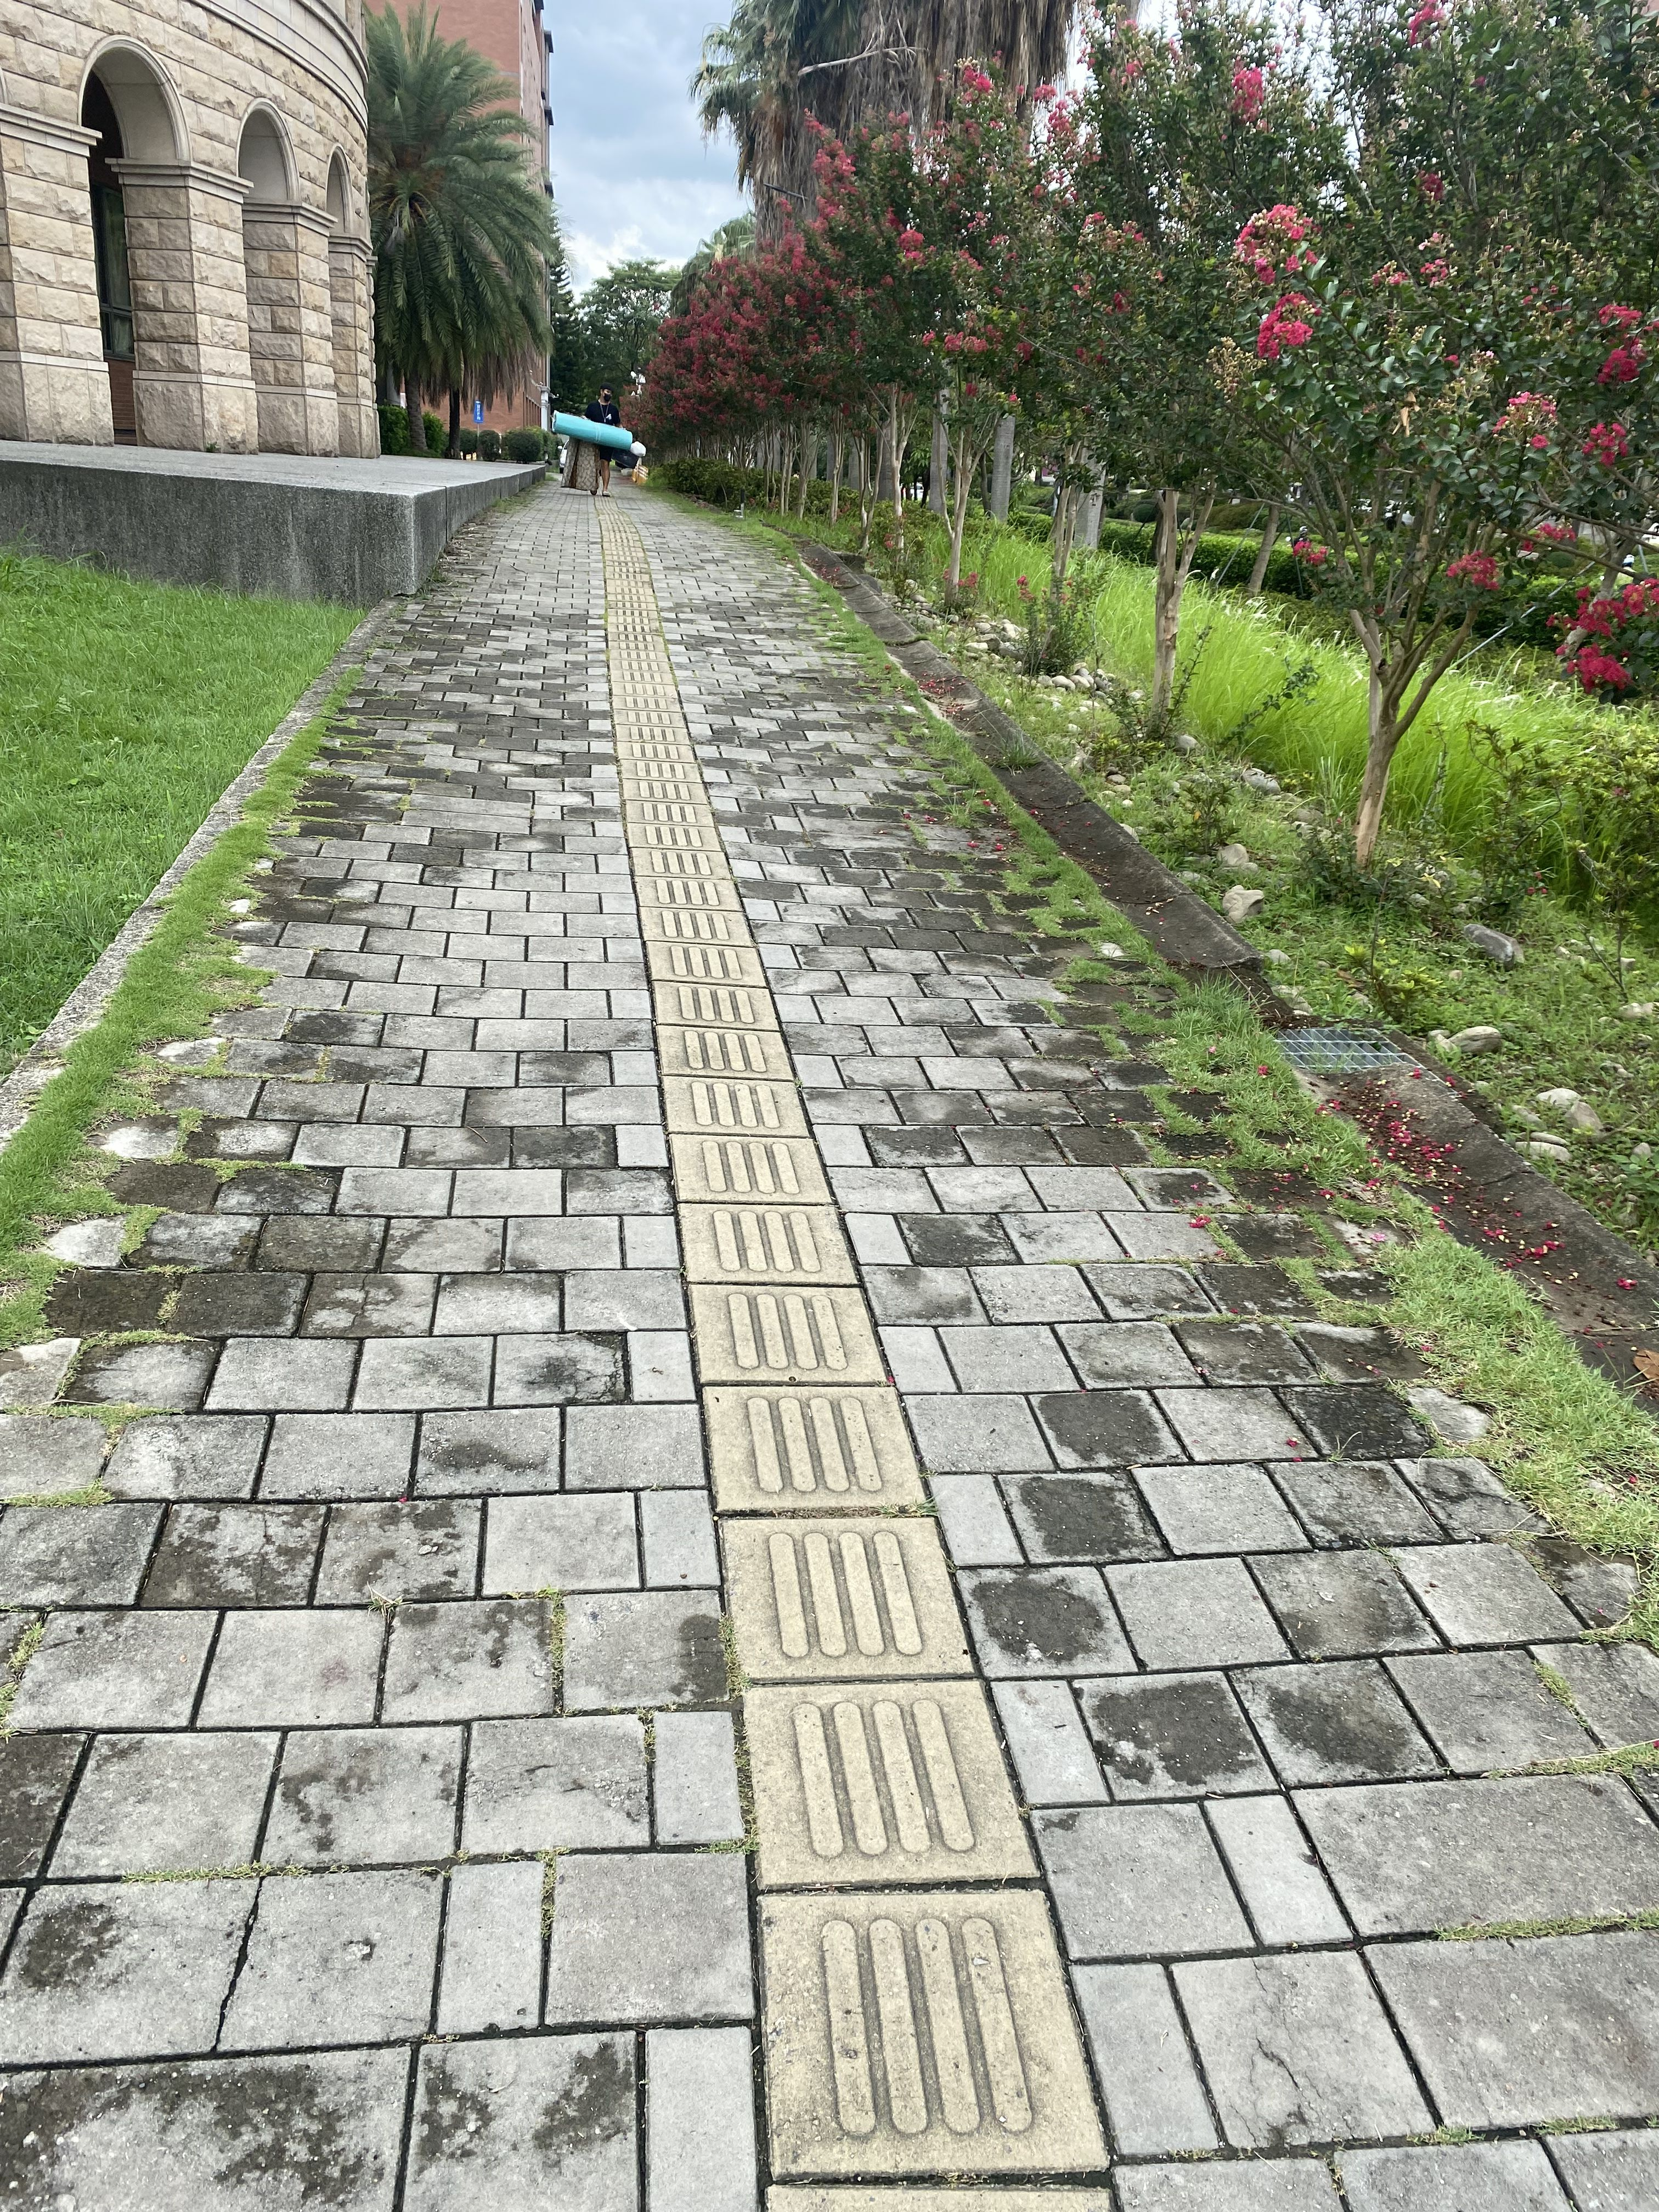sidewalk: (12, 488, 1659, 2212)
